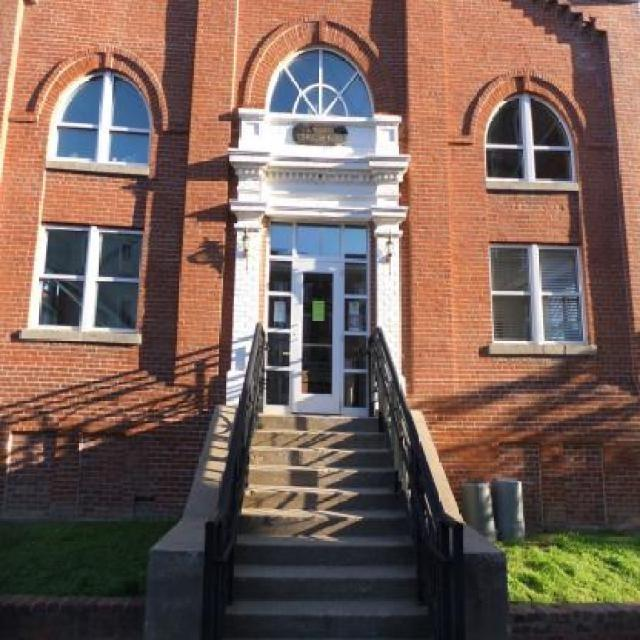stair: (225, 409, 432, 640)
